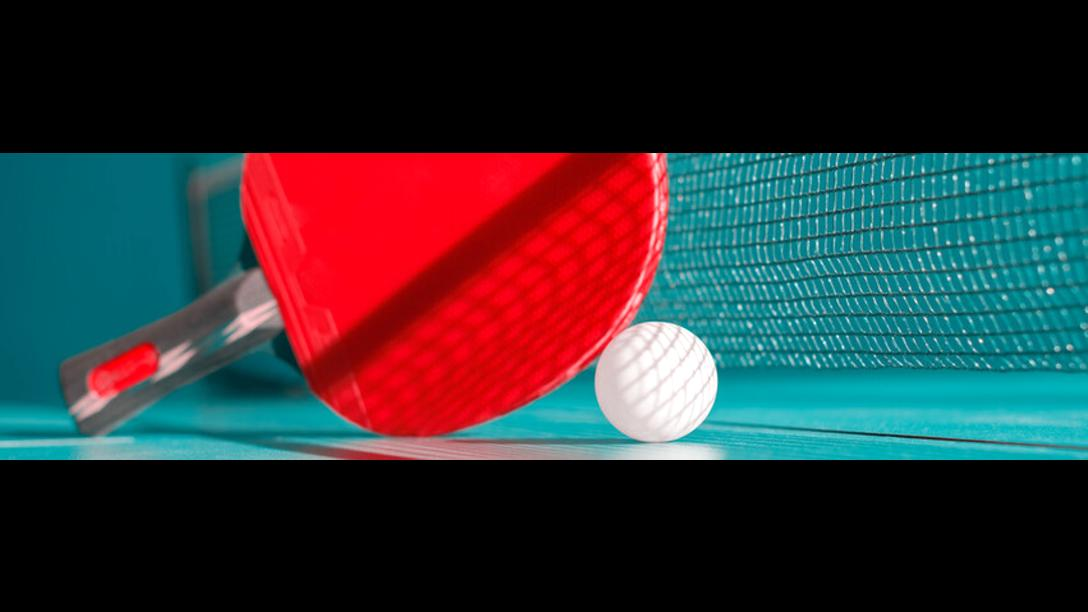Table-Tennis-Ball: (595, 320, 717, 438)
